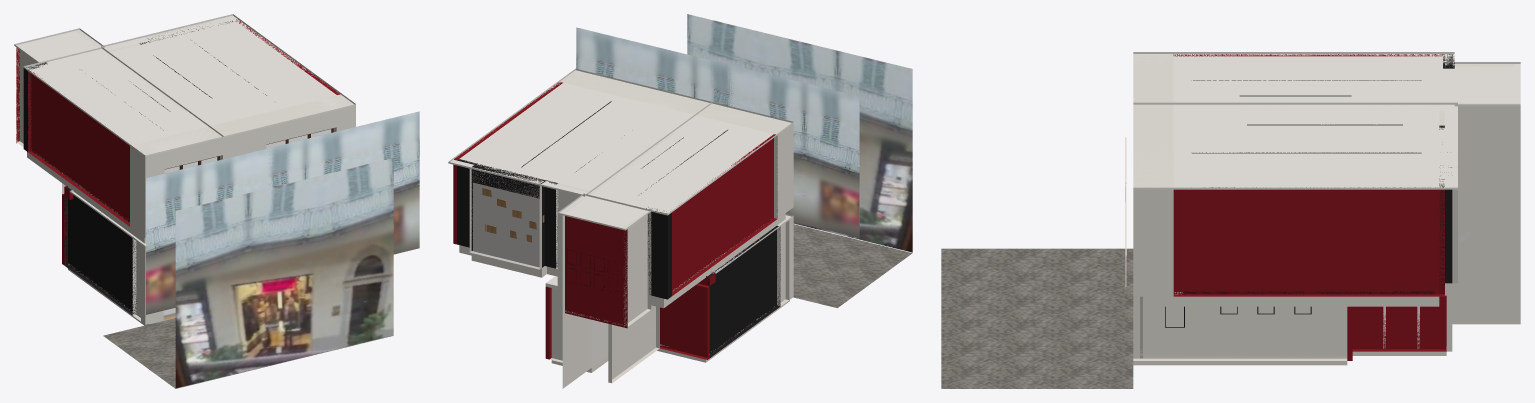
File: toasteria.glb
3 renders of one model, left to right at view 1: azimuth 30°, elevation 25°; view 2: azimuth 150°, elevation 25°; view 3: azimuth 270°, elevation 25°, orthographic. The views are drawn at different scales.
Visible parts, largest first — view 1: EMIT_gf_street, LM_ufa, LM_ufb, EMIT_ua_street, EMIT_ub_street, LM_gf, EMIT_gf_pavement, LM_st; view 2: LM_ufb, LM_ufa, EMIT_gf_street, LM_gf, LM_st, EMIT_ua_street, EMIT_ub_street, EMIT_gf_pavement; view 3: LM_ufb, EMIT_gf_pavement, LM_gf, LM_ufa, LM_st.
Boxes of the visible parts, x1,y1,x2,y2 form: EMIT_gf_street: (175, 158, 393, 388); LM_ufa: (23, 47, 244, 243); LM_ufb: (101, 14, 355, 153); EMIT_ua_street: (146, 139, 305, 314); EMIT_ub_street: (248, 111, 419, 254); LM_gf: (62, 183, 175, 325); EMIT_gf_pavement: (103, 318, 393, 388); LM_st: (14, 28, 137, 146); LM_ufb: (448, 68, 711, 277); LM_ufa: (586, 98, 793, 308); EMIT_gf_street: (687, 14, 912, 252); LM_gf: (545, 213, 793, 383); LM_st: (557, 169, 654, 388); EMIT_ua_street: (694, 56, 859, 237); EMIT_ub_street: (576, 27, 754, 111); EMIT_gf_pavement: (793, 224, 912, 308); LM_ufb: (1133, 102, 1457, 306); EMIT_gf_pavement: (941, 248, 1133, 388); LM_gf: (1133, 295, 1452, 365); LM_ufa: (1133, 52, 1454, 117); LM_st: (1366, 62, 1520, 324).
Bounding box in the file's own units: 11.75 × 7.22 × 15.7.
88 materials, 37 textured.
